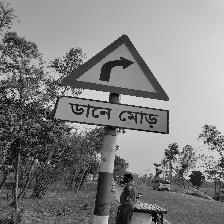Right-turn: (55, 34, 172, 133)
